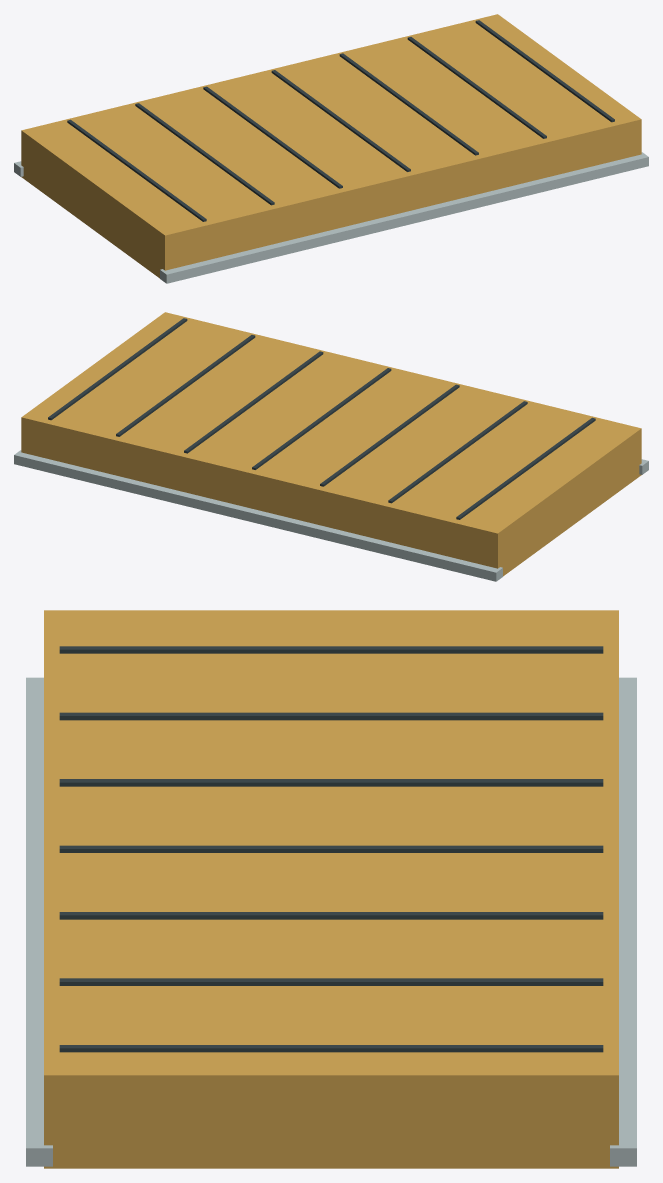
Rendered from car-battery.glb.
3 renders of one model, top to bottom at view 1: azimuth 30°, elevation 25°; view 2: azimuth 150°, elevation 25°; view 3: azimuth 270°, elevation 25°, orthographic. The views are drawn at different scales.
Parts seen in each view (by area): view 1: Sealed underfloor battery enclosure, Battery enclosure flange, Module cover seam (×7); view 2: Sealed underfloor battery enclosure, Battery enclosure flange, Module cover seam (×7); view 3: Sealed underfloor battery enclosure, Module cover seam (×7), Battery enclosure flange (×2).
Boxes of the visible parts, box(x1,y1,x2,y2) form: Sealed underfloor battery enclosure: box(21, 14, 641, 278); Battery enclosure flange: box(160, 152, 648, 283); Module cover seam (×7): box(67, 20, 614, 221); Sealed underfloor battery enclosure: box(21, 312, 641, 576); Battery enclosure flange: box(14, 450, 502, 581); Module cover seam (×7): box(48, 318, 595, 519); Sealed underfloor battery enclosure: box(44, 610, 618, 1168); Module cover seam (×7): box(59, 646, 603, 1052); Battery enclosure flange (×2): box(26, 677, 636, 1166).
Bounding box in the file's own units: 2.48 × 0.242 × 1.36.
